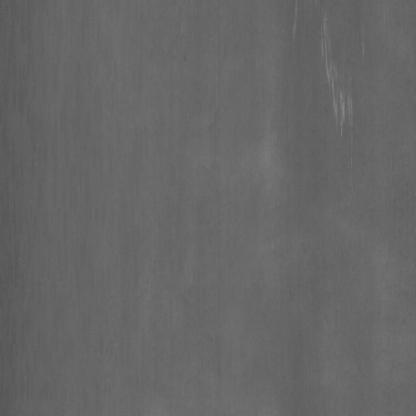silk_spot: (292, 1, 385, 152)
